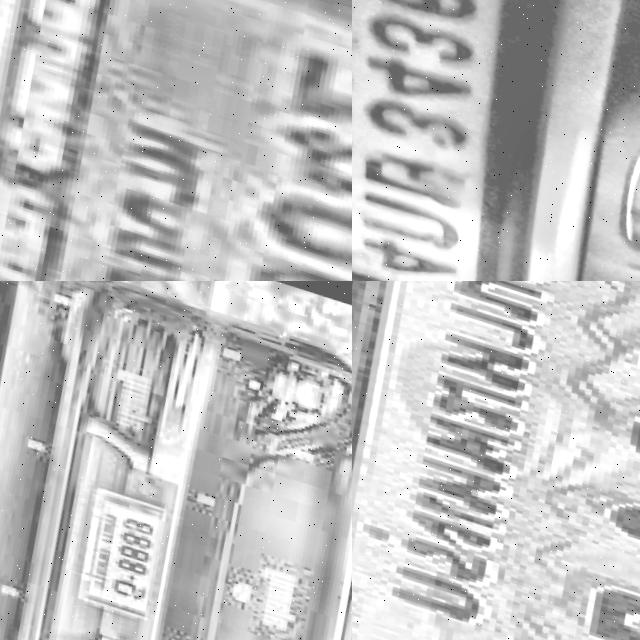license-plate: (352, 281, 640, 640), (0, 0, 352, 281), (352, 0, 528, 281), (66, 478, 171, 623)
